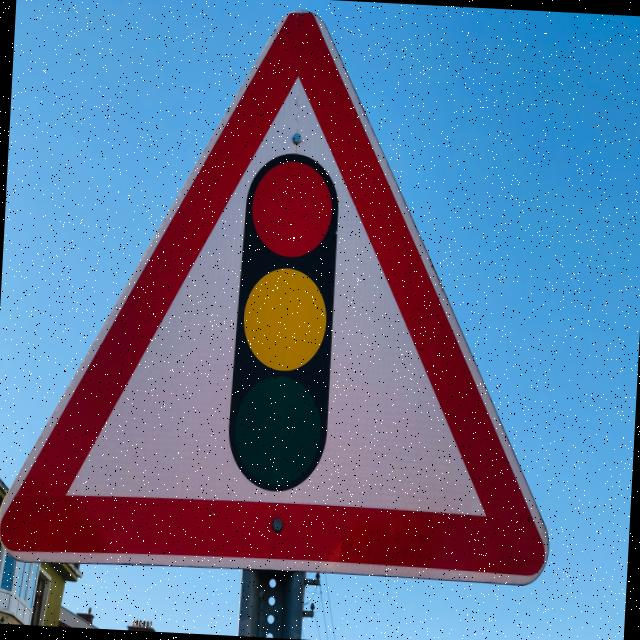light_traffic: (0, 0, 578, 592)
